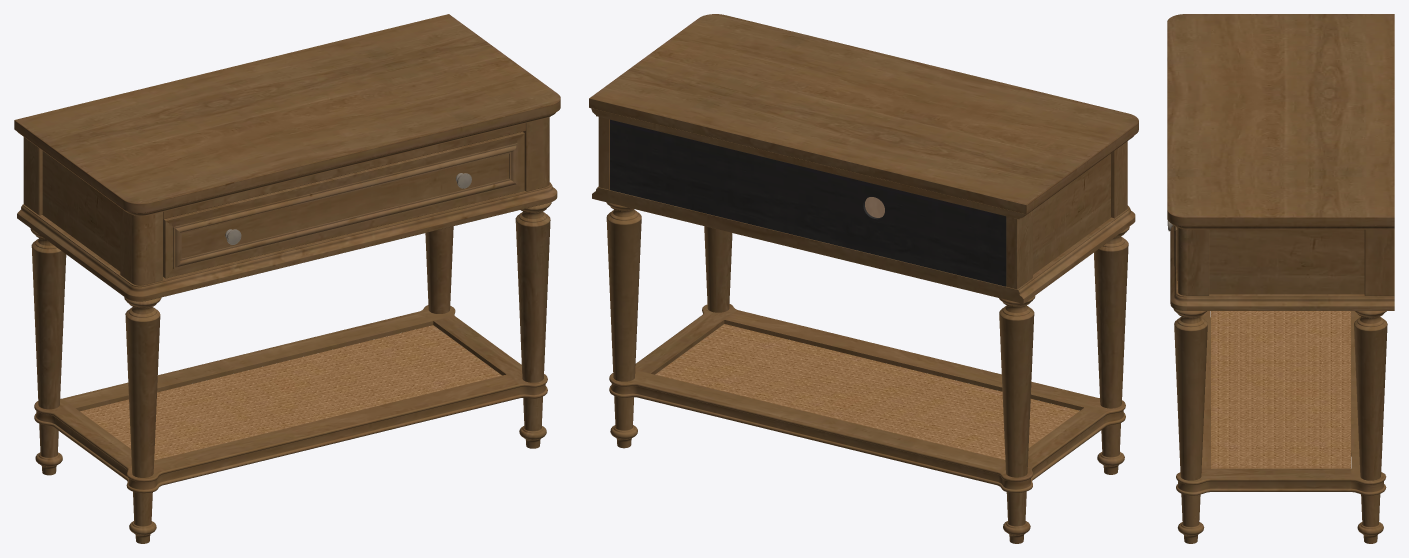
The model's file is abo-B07B4W5RF7.glb.
The picture shows the model from 3 angles, left to right: view 1: azimuth 30°, elevation 25°; view 2: azimuth 150°, elevation 25°; view 3: azimuth 270°, elevation 25°; orthographic projection. The views are drawn at different scales.
Bounding box in the file's own units: 0.914 × 0.7 × 0.432.
Materials: 1 (1 with a texture image).
